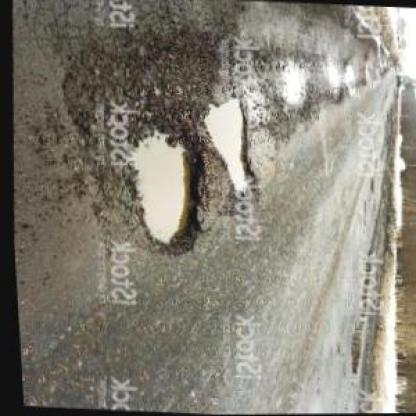pothole: (108, 108, 215, 262), (197, 93, 262, 201), (273, 61, 311, 110), (323, 62, 345, 104), (343, 64, 359, 97)
